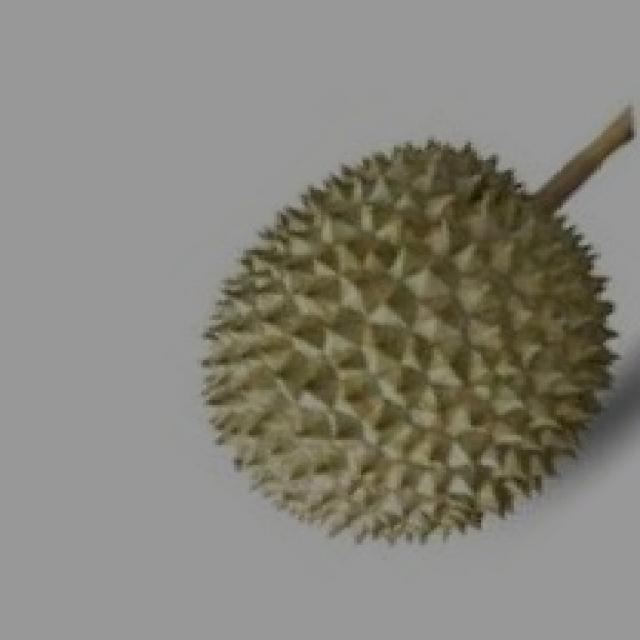fruit: (218, 175, 637, 605)
